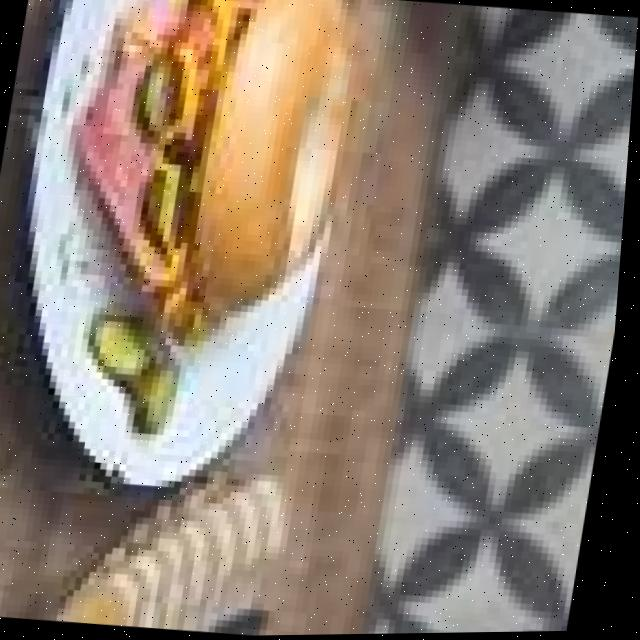Bagel: (193, 0, 347, 327)
